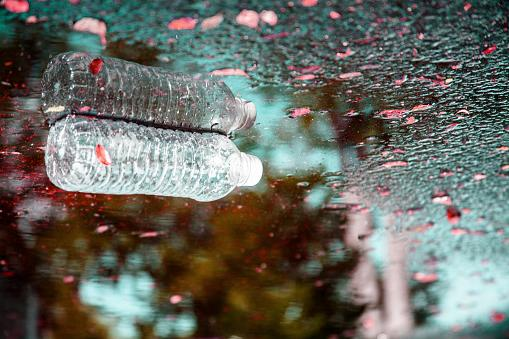Plastic: (37, 109, 283, 215)
